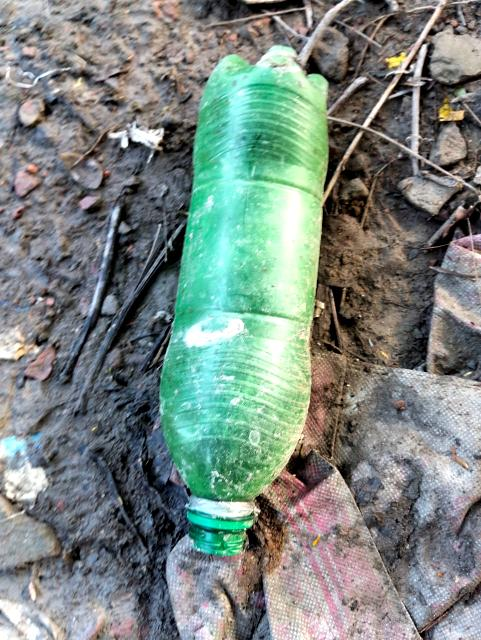bottle: (169, 56, 328, 518)
